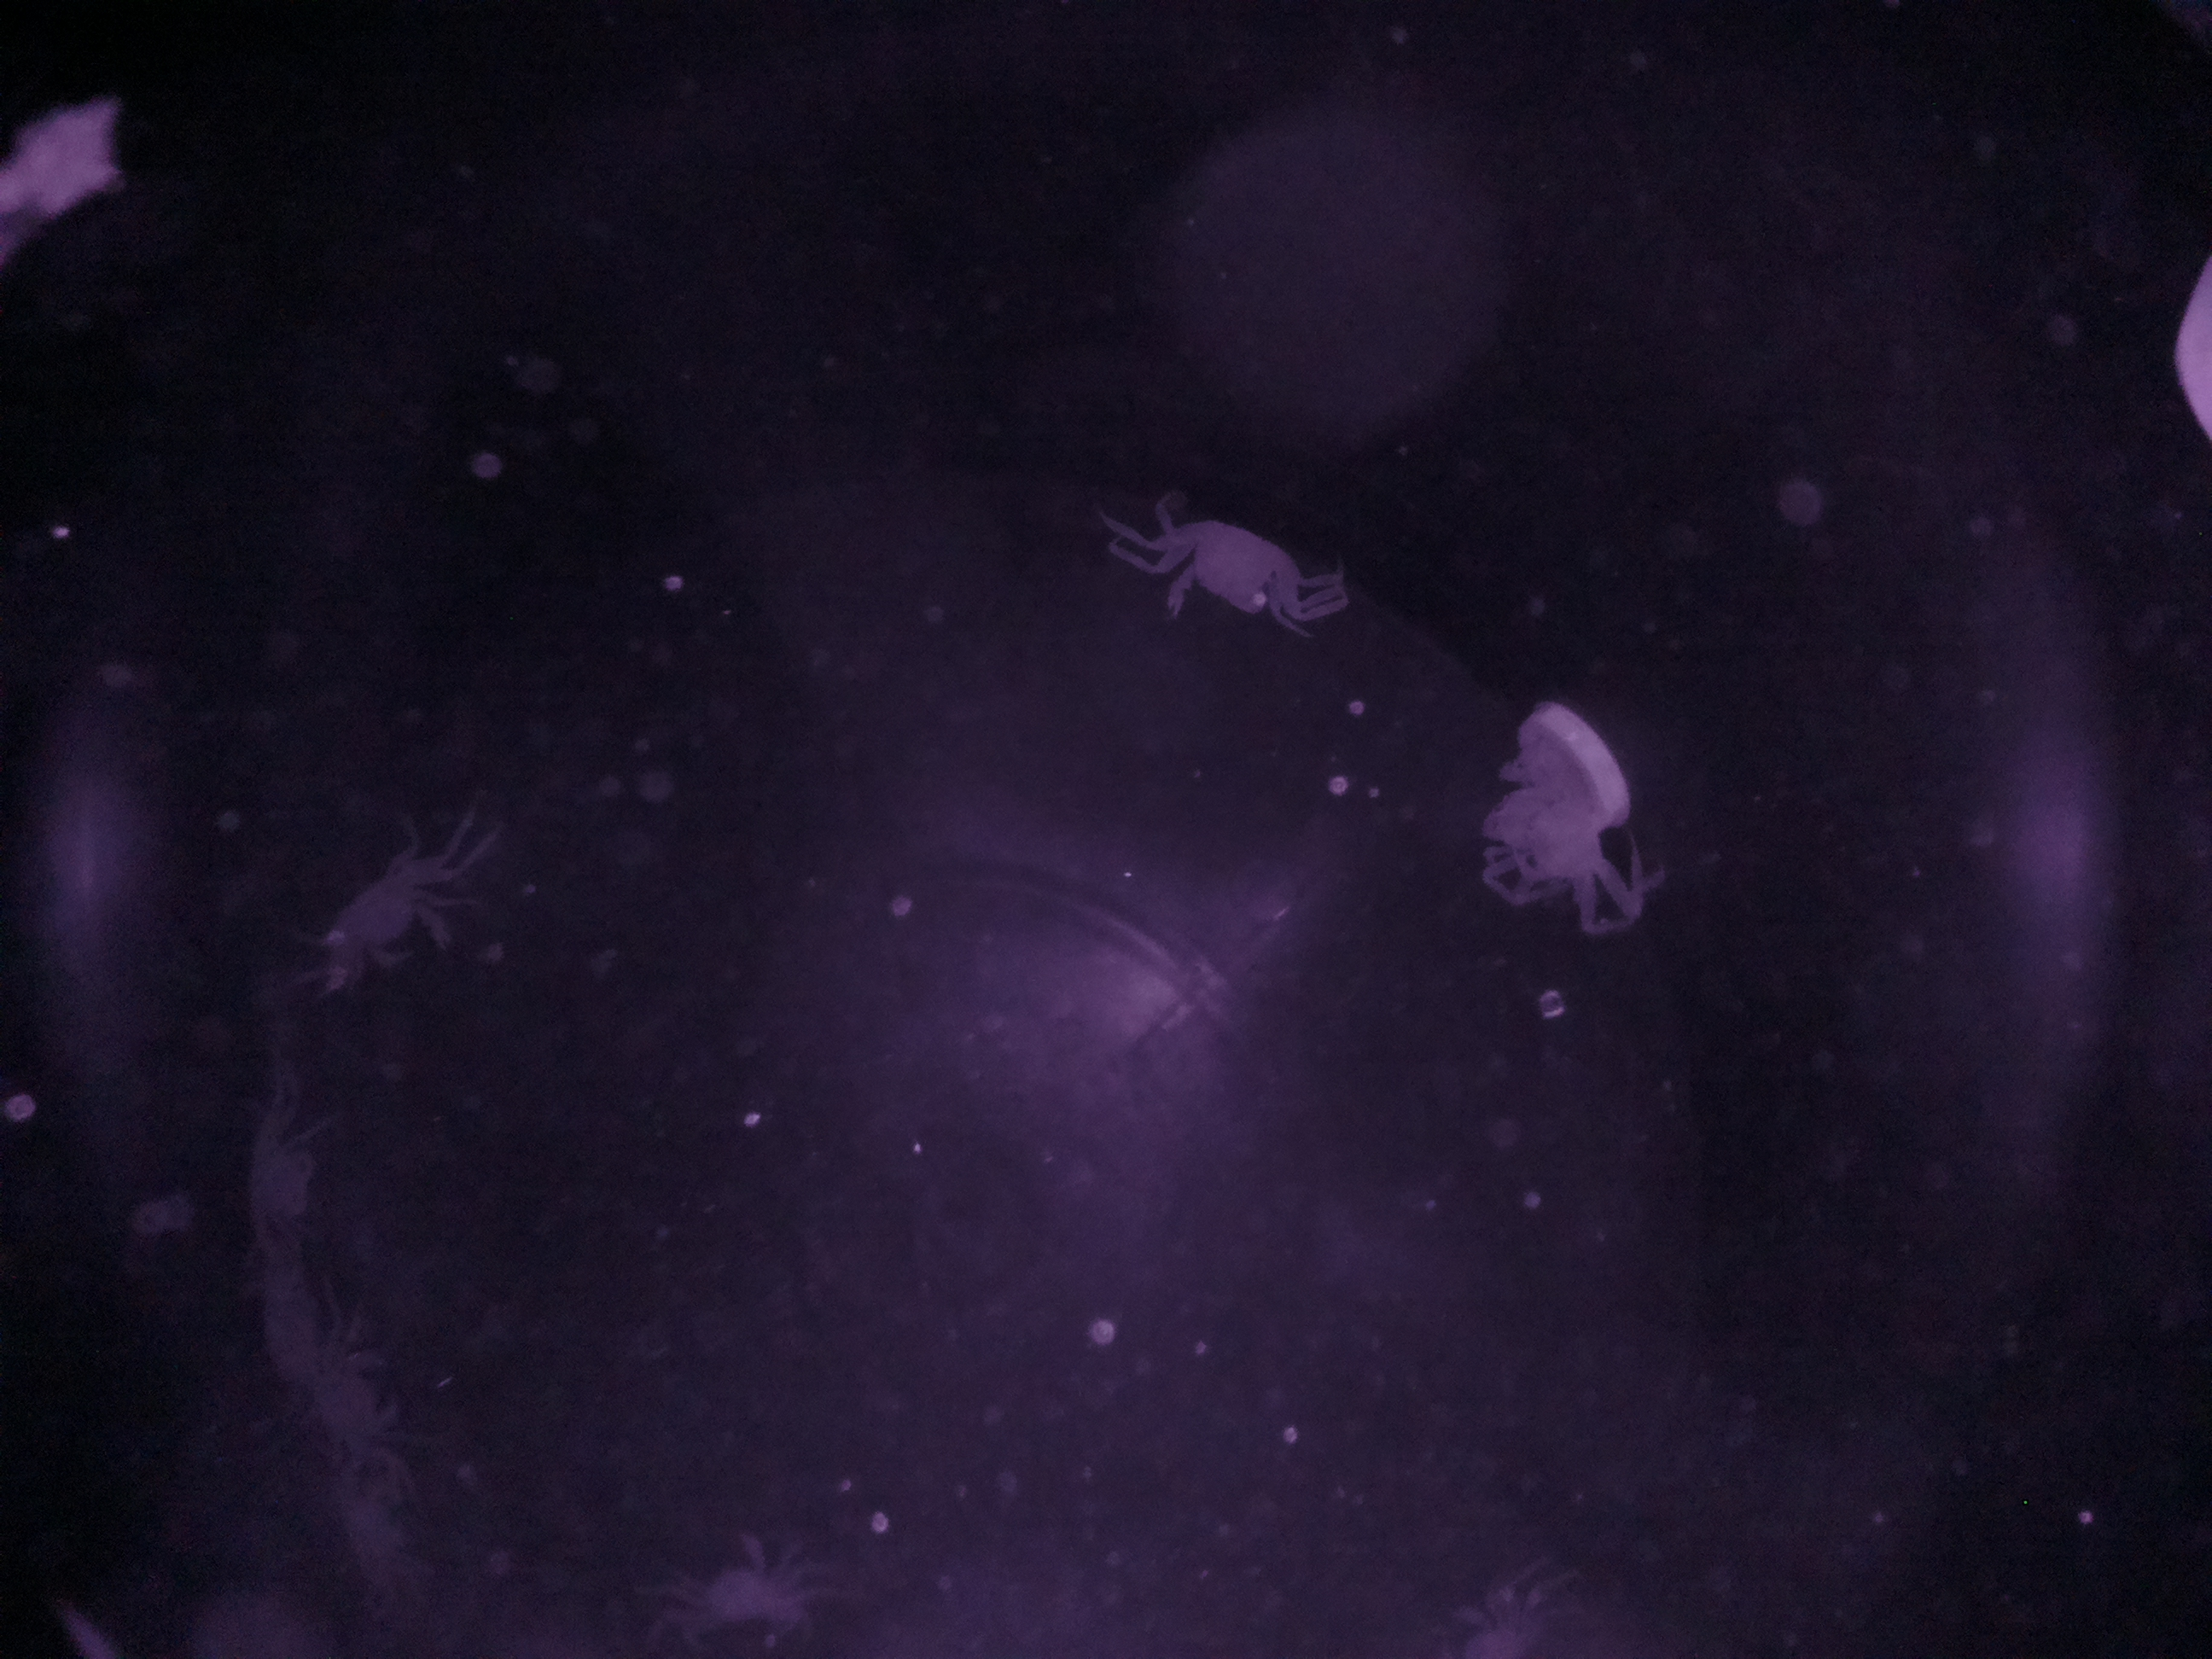Crab: (1097, 481, 1343, 650), (277, 824, 481, 1004)
